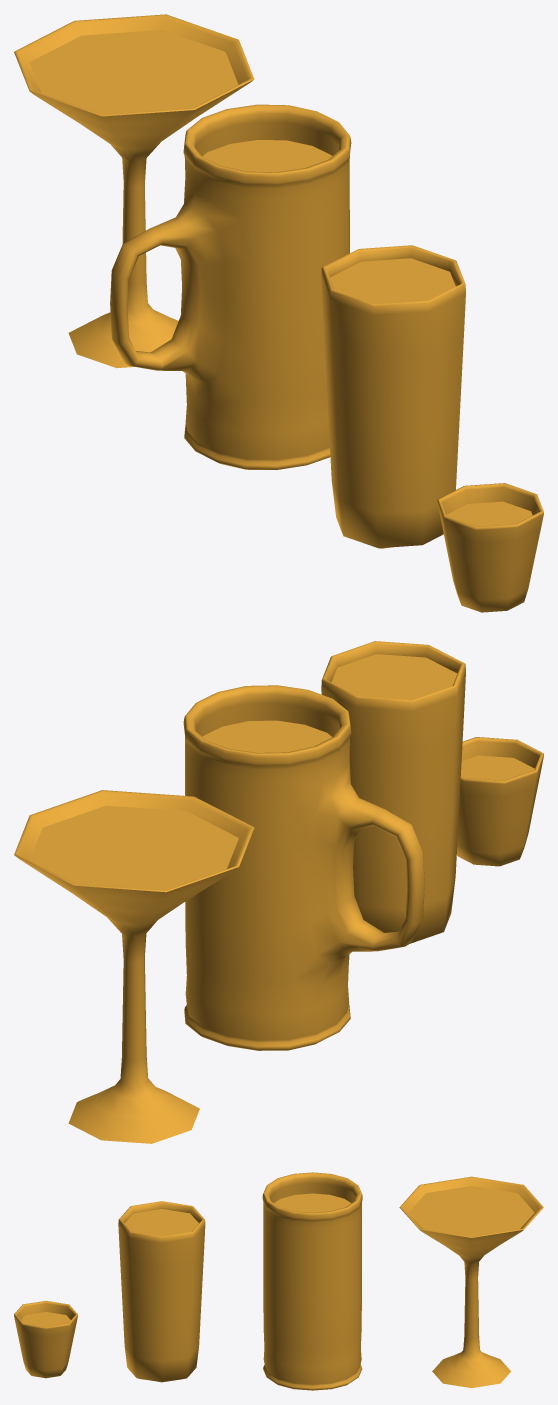
Rendered from Drinks Other.fbx.
3 views of the same model, one above another, from view 1: azimuth 30°, elevation 25°; view 2: azimuth 150°, elevation 25°; view 3: azimuth 270°, elevation 25° (orthographic). The views are drawn at different scales.
Parts seen in each view (by area): view 1: Beer.001, Tall Glass.001, Martini Glass.003, Martini Drink Surface.001, Shot Glass.001, Tall Glass Drink Surface.001, Beer Drink Surface.001, Shot Glass Drink Surface.001; view 2: Beer.001, Tall Glass.001, Martini Glass.003, Martini Drink Surface.001, Shot Glass.001, Tall Glass Drink Surface.001, Beer Drink Surface.001, Shot Glass Drink Surface.001; view 3: Beer.001, Tall Glass.001, Martini Glass.003, Martini Drink Surface.001, Shot Glass.001, Tall Glass Drink Surface.001, Beer Drink Surface.001, Shot Glass Drink Surface.001.
Boxes of the visible parts, x1,y1,x2,y2 form: Beer.001: (110,104,351,469); Tall Glass.001: (321,245,465,548); Martini Glass.003: (14,14,254,368); Martini Drink Surface.001: (29,30,238,114); Shot Glass.001: (437,483,543,612); Tall Glass Drink Surface.001: (330,258,455,304); Beer Drink Surface.001: (202,140,332,172); Shot Glass Drink Surface.001: (446,501,532,526); Beer.001: (183,685,424,1050); Tall Glass.001: (321,641,465,943); Martini Glass.003: (14,790,254,1143); Martini Drink Surface.001: (30,805,238,890); Shot Glass.001: (456,737,543,866); Tall Glass Drink Surface.001: (331,654,457,700); Beer Drink Surface.001: (202,720,332,752); Shot Glass Drink Surface.001: (461,755,534,780); Beer.001: (262,1172,362,1390); Tall Glass.001: (118,1201,205,1382); Martini Glass.003: (399,1176,543,1388); Martini Drink Surface.001: (409,1186,534,1236); Shot Glass.001: (14,1301,77,1378); Tall Glass Drink Surface.001: (125,1209,198,1236); Beer Drink Surface.001: (274,1193,351,1212); Shot Glass Drink Surface.001: (21,1312,70,1326).
Bounding box in the file's own units: 15.43 × 45.78 × 17.01.
